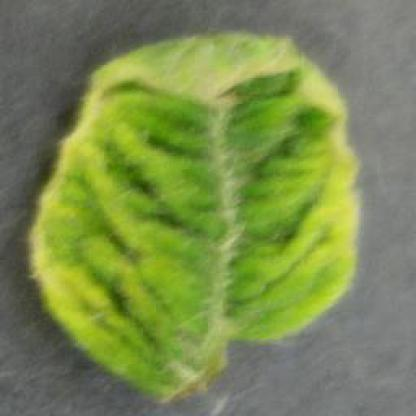bad leaf: (73, 58, 346, 356)
